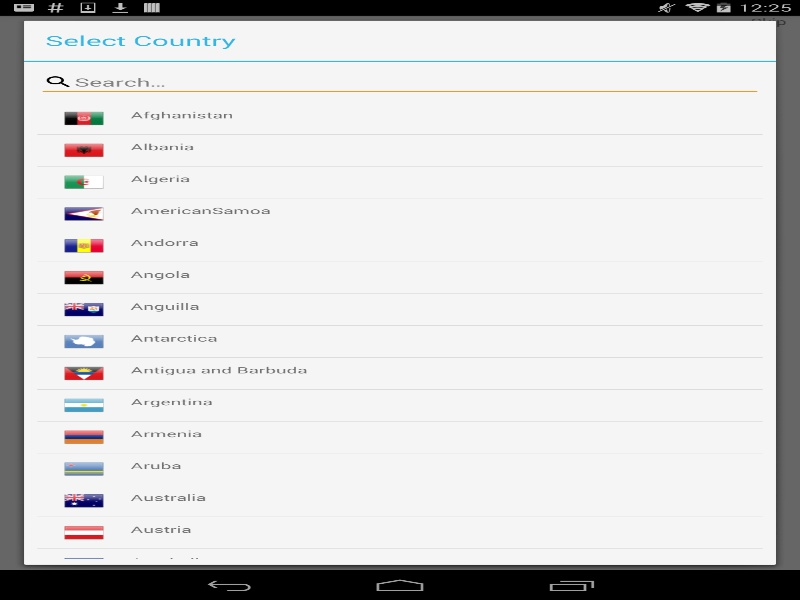Input: (37, 68, 762, 96)
